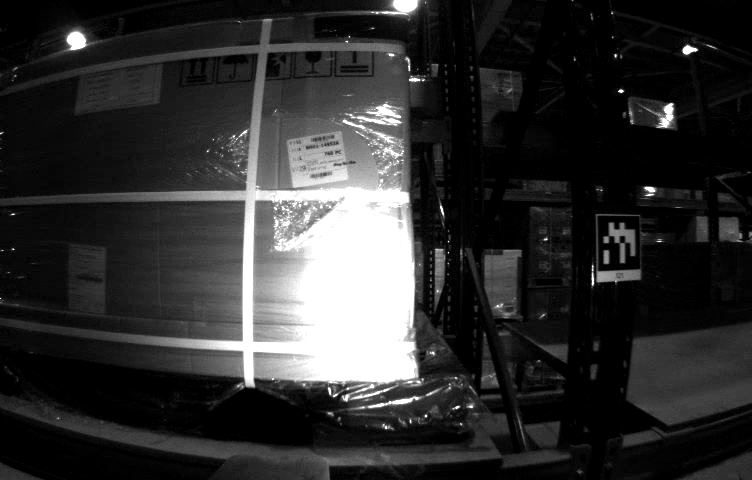True Barcode: (288, 129, 346, 188)
